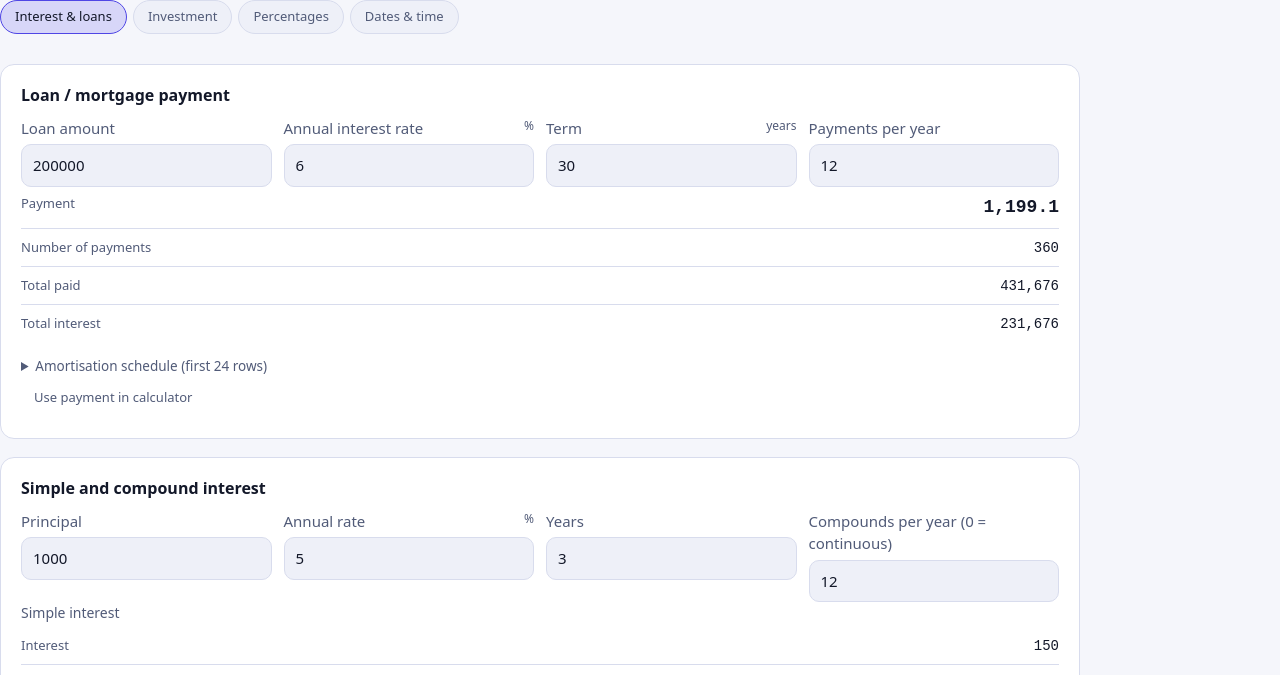
Test: finance panel › explains invalid dates
The image size is (1280, 675).
Click the tab "Dates & time" at (404, 17), box [350,0,459,34]
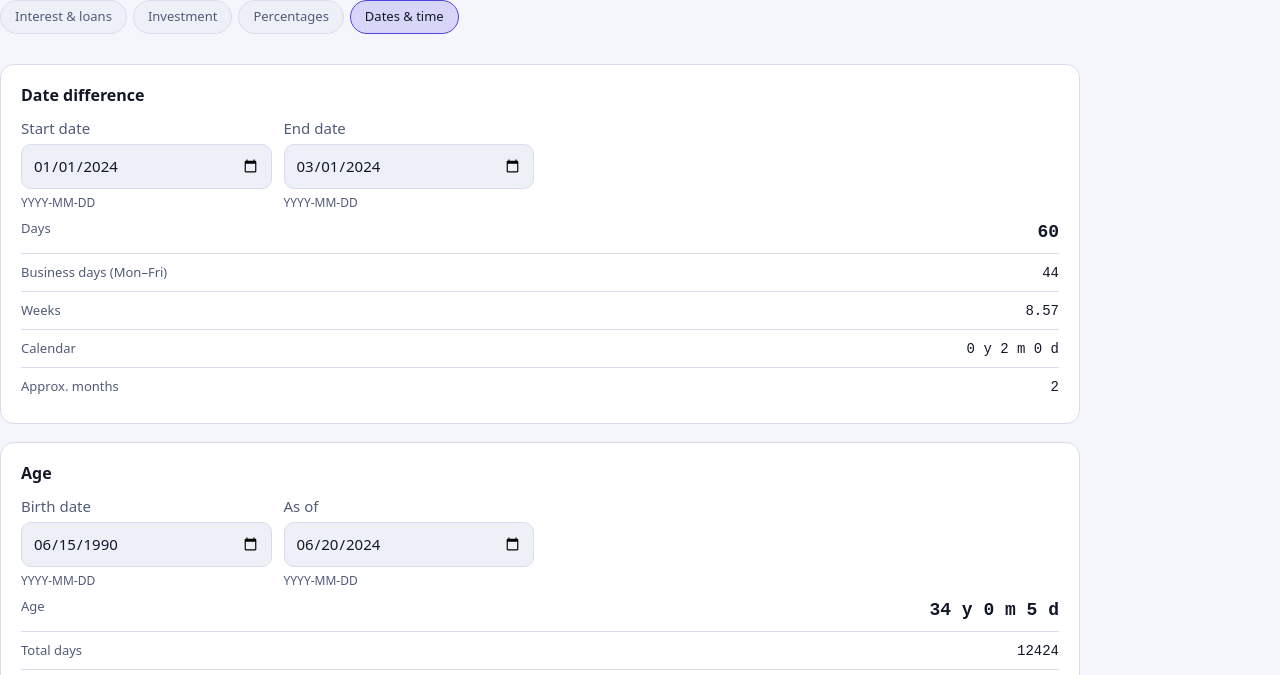
Type "01/01/2024" into the date field labelled "Start date YYYY-MM-DD" at (146, 166), box [21,144,272,188]
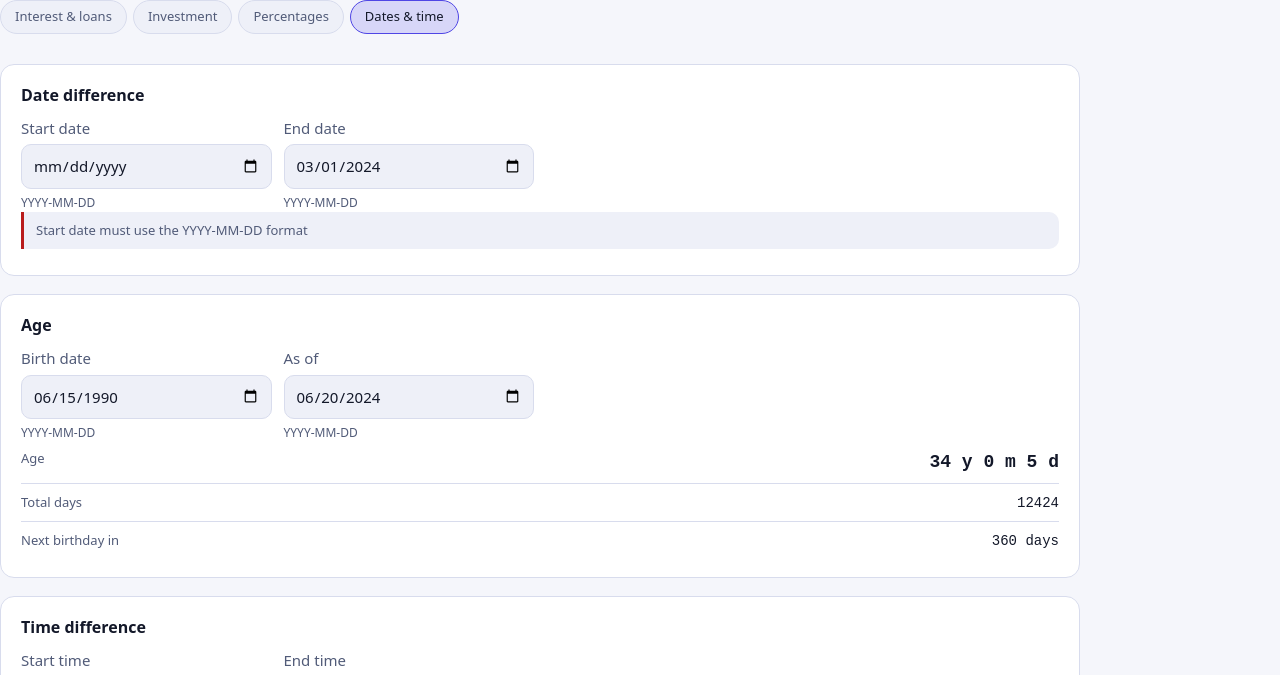
Expected: the text "Start date must use the YYYY-MM-DD format" is shown, [21,212,1059,249]
